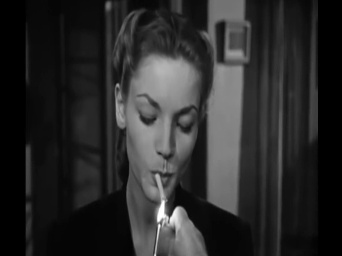smoke: (153, 168, 168, 202)
